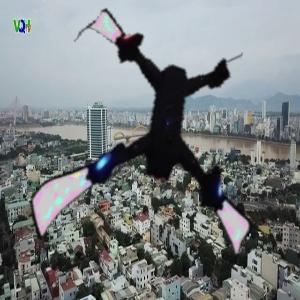drone: (39, 29, 288, 278)
